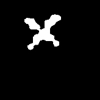single_crochet: (25, 15, 60, 49)
